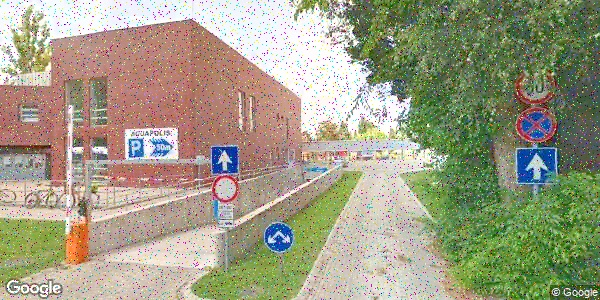b_speed_limit: (513, 68, 556, 105)
c_road_closed: (211, 174, 240, 203)
e_no_stop_park: (514, 107, 557, 144)
